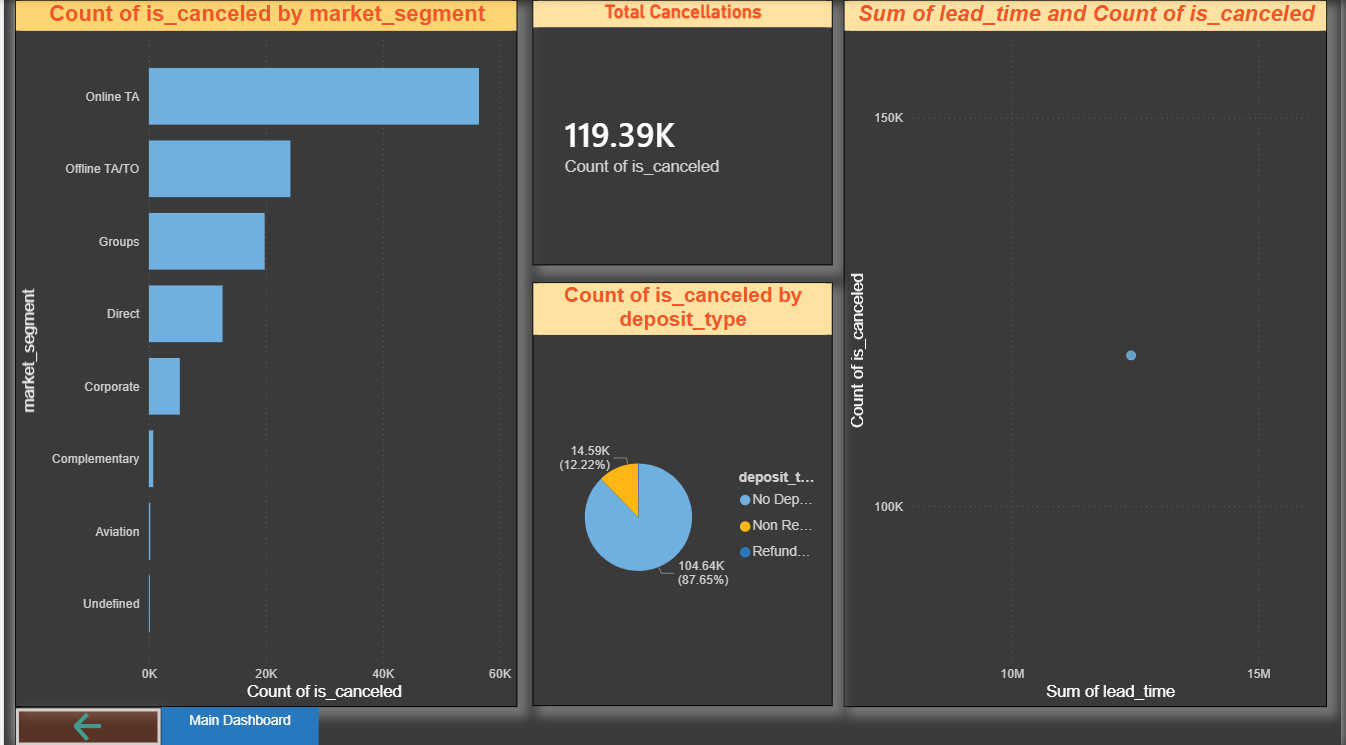

What the dashboard file says about the page in this screenshot:
{"tool":"powerbi","page":{"name":"Page 2","canvas":[1280,720],"ordinal":1},"visuals":[{"type":"cardVisual","title":"Total Cancellations","fields":{"Data":["CountNonNull(hotel_bookings.is_canceled)"]},"box":[499.7,0,289.3,255.7],"z":1},{"type":"clusteredBarChart","fields":{"Category":["hotel_bookings.market_segment"],"Y":["CountNonNull(hotel_bookings.is_canceled)"]},"box":[0,0,485.1,682.4],"z":2},{"type":"scatterChart","fields":{"X":["Sum(hotel_bookings.lead_time)"],"Y":["CountNonNull(hotel_bookings.is_canceled)"]},"box":[799.3,0,466.1,682.4],"z":3},{"type":"pieChart","fields":{"Category":["hotel_bookings.deposit_type"],"Y":["CountNonNull(hotel_bookings.is_canceled)"]},"box":[499.7,273.2,289.3,409.1],"z":4},{"type":"actionButton","box":[0,682.4,141.7,38],"z":5},{"type":"textbox","box":[141.7,682.4,152,38],"z":6}]}

Visuals, with their boxes on the page's 1280x720 design canvas (x1, y1, x2, y2). These are canvas units, not pixel positions in the 1346x745 screenshot, which may show the page scaled, cropped or inside an application window:
"Total Cancellations" cardVisual: (500,0,789,256)
clusteredBarChart - hotel_bookings.market_segment x CountNonNull(hotel_bookings.is_canceled): (0,0,485,682)
scatterChart - Sum(hotel_bookings.lead_time) x CountNonNull(hotel_bookings.is_canceled): (799,0,1265,682)
pieChart - hotel_bookings.deposit_type x CountNonNull(hotel_bookings.is_canceled): (500,273,789,682)
actionButton: (0,682,142,720)
textbox: (142,682,294,720)
